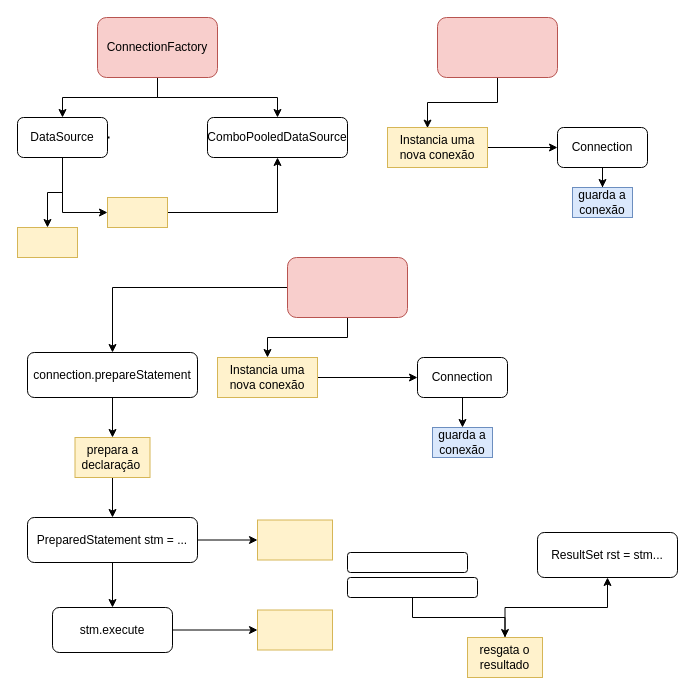
This 695x695 diagram has some shape labels left out. Here are the shapes that lost their labels. From the top down, the centre of each, then its label:
At (497,47): "TestaConexao".
At (137,212): "guarda".
At (47,242): "recupera conexão".
At (347,287): "TestaInsercao".
At (294,539): "salva a declaração".
At (407,562): "stm.getResultSet".
At (412,587): "stm.getGenerateKeys".
At (294,629): "executa a declaração".
